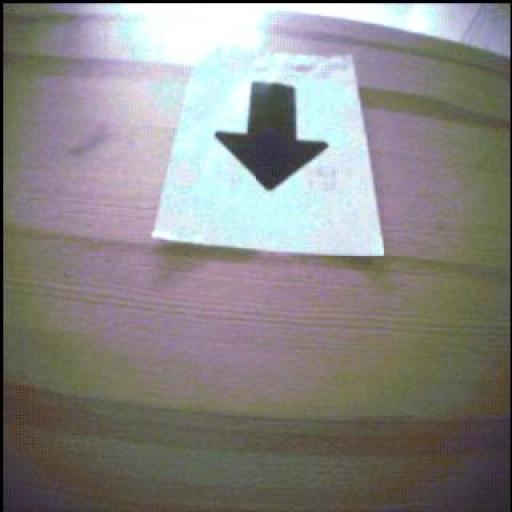Arrow: (217, 83, 329, 192)
